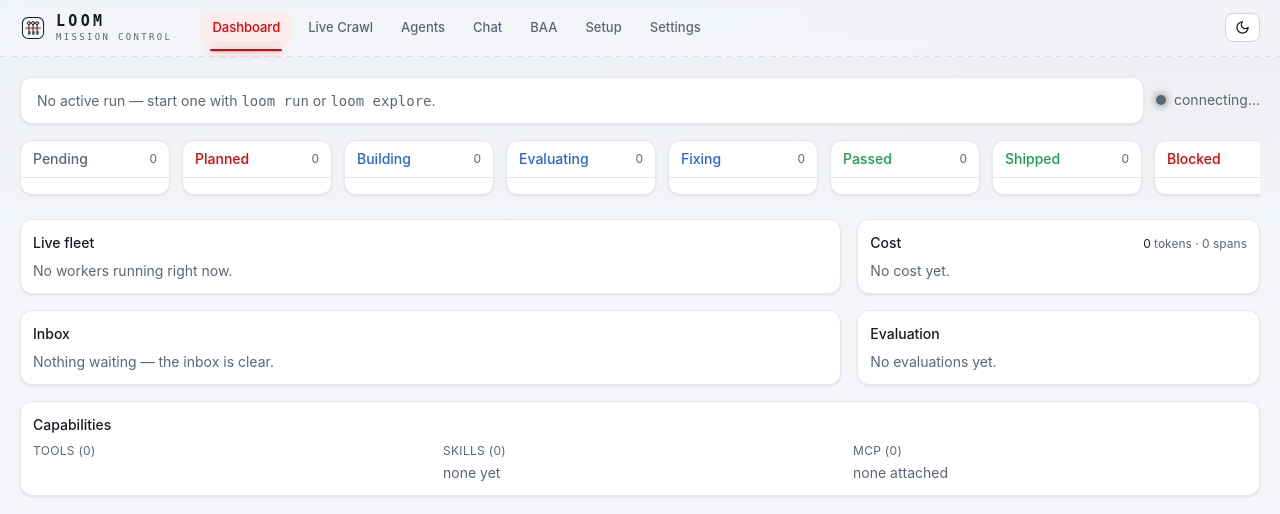
it: App › switches between the Dashboard and the Live Crawl views
The image size is (1280, 514).
Expected: the text "No active run — start one with loom run or loom explore." is shown, [37,92,436,108]
Click the button "Live Crawl". click: point(341, 28)
box: [296,12,385,44]
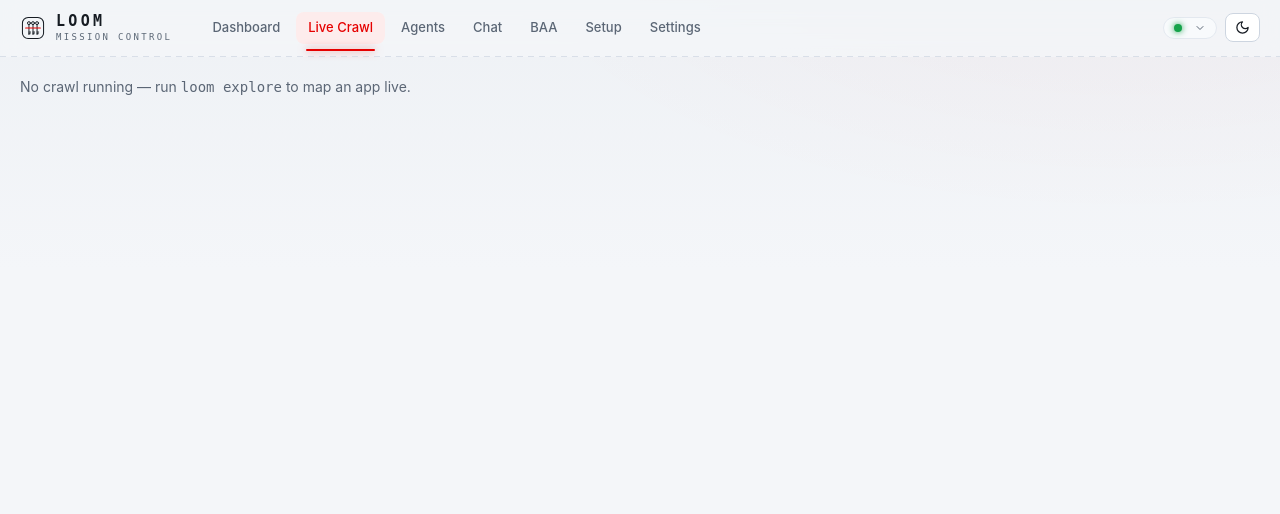
Now the text "No crawl running — run loom explore to map an app live." is shown, box [20,78,411,94]
